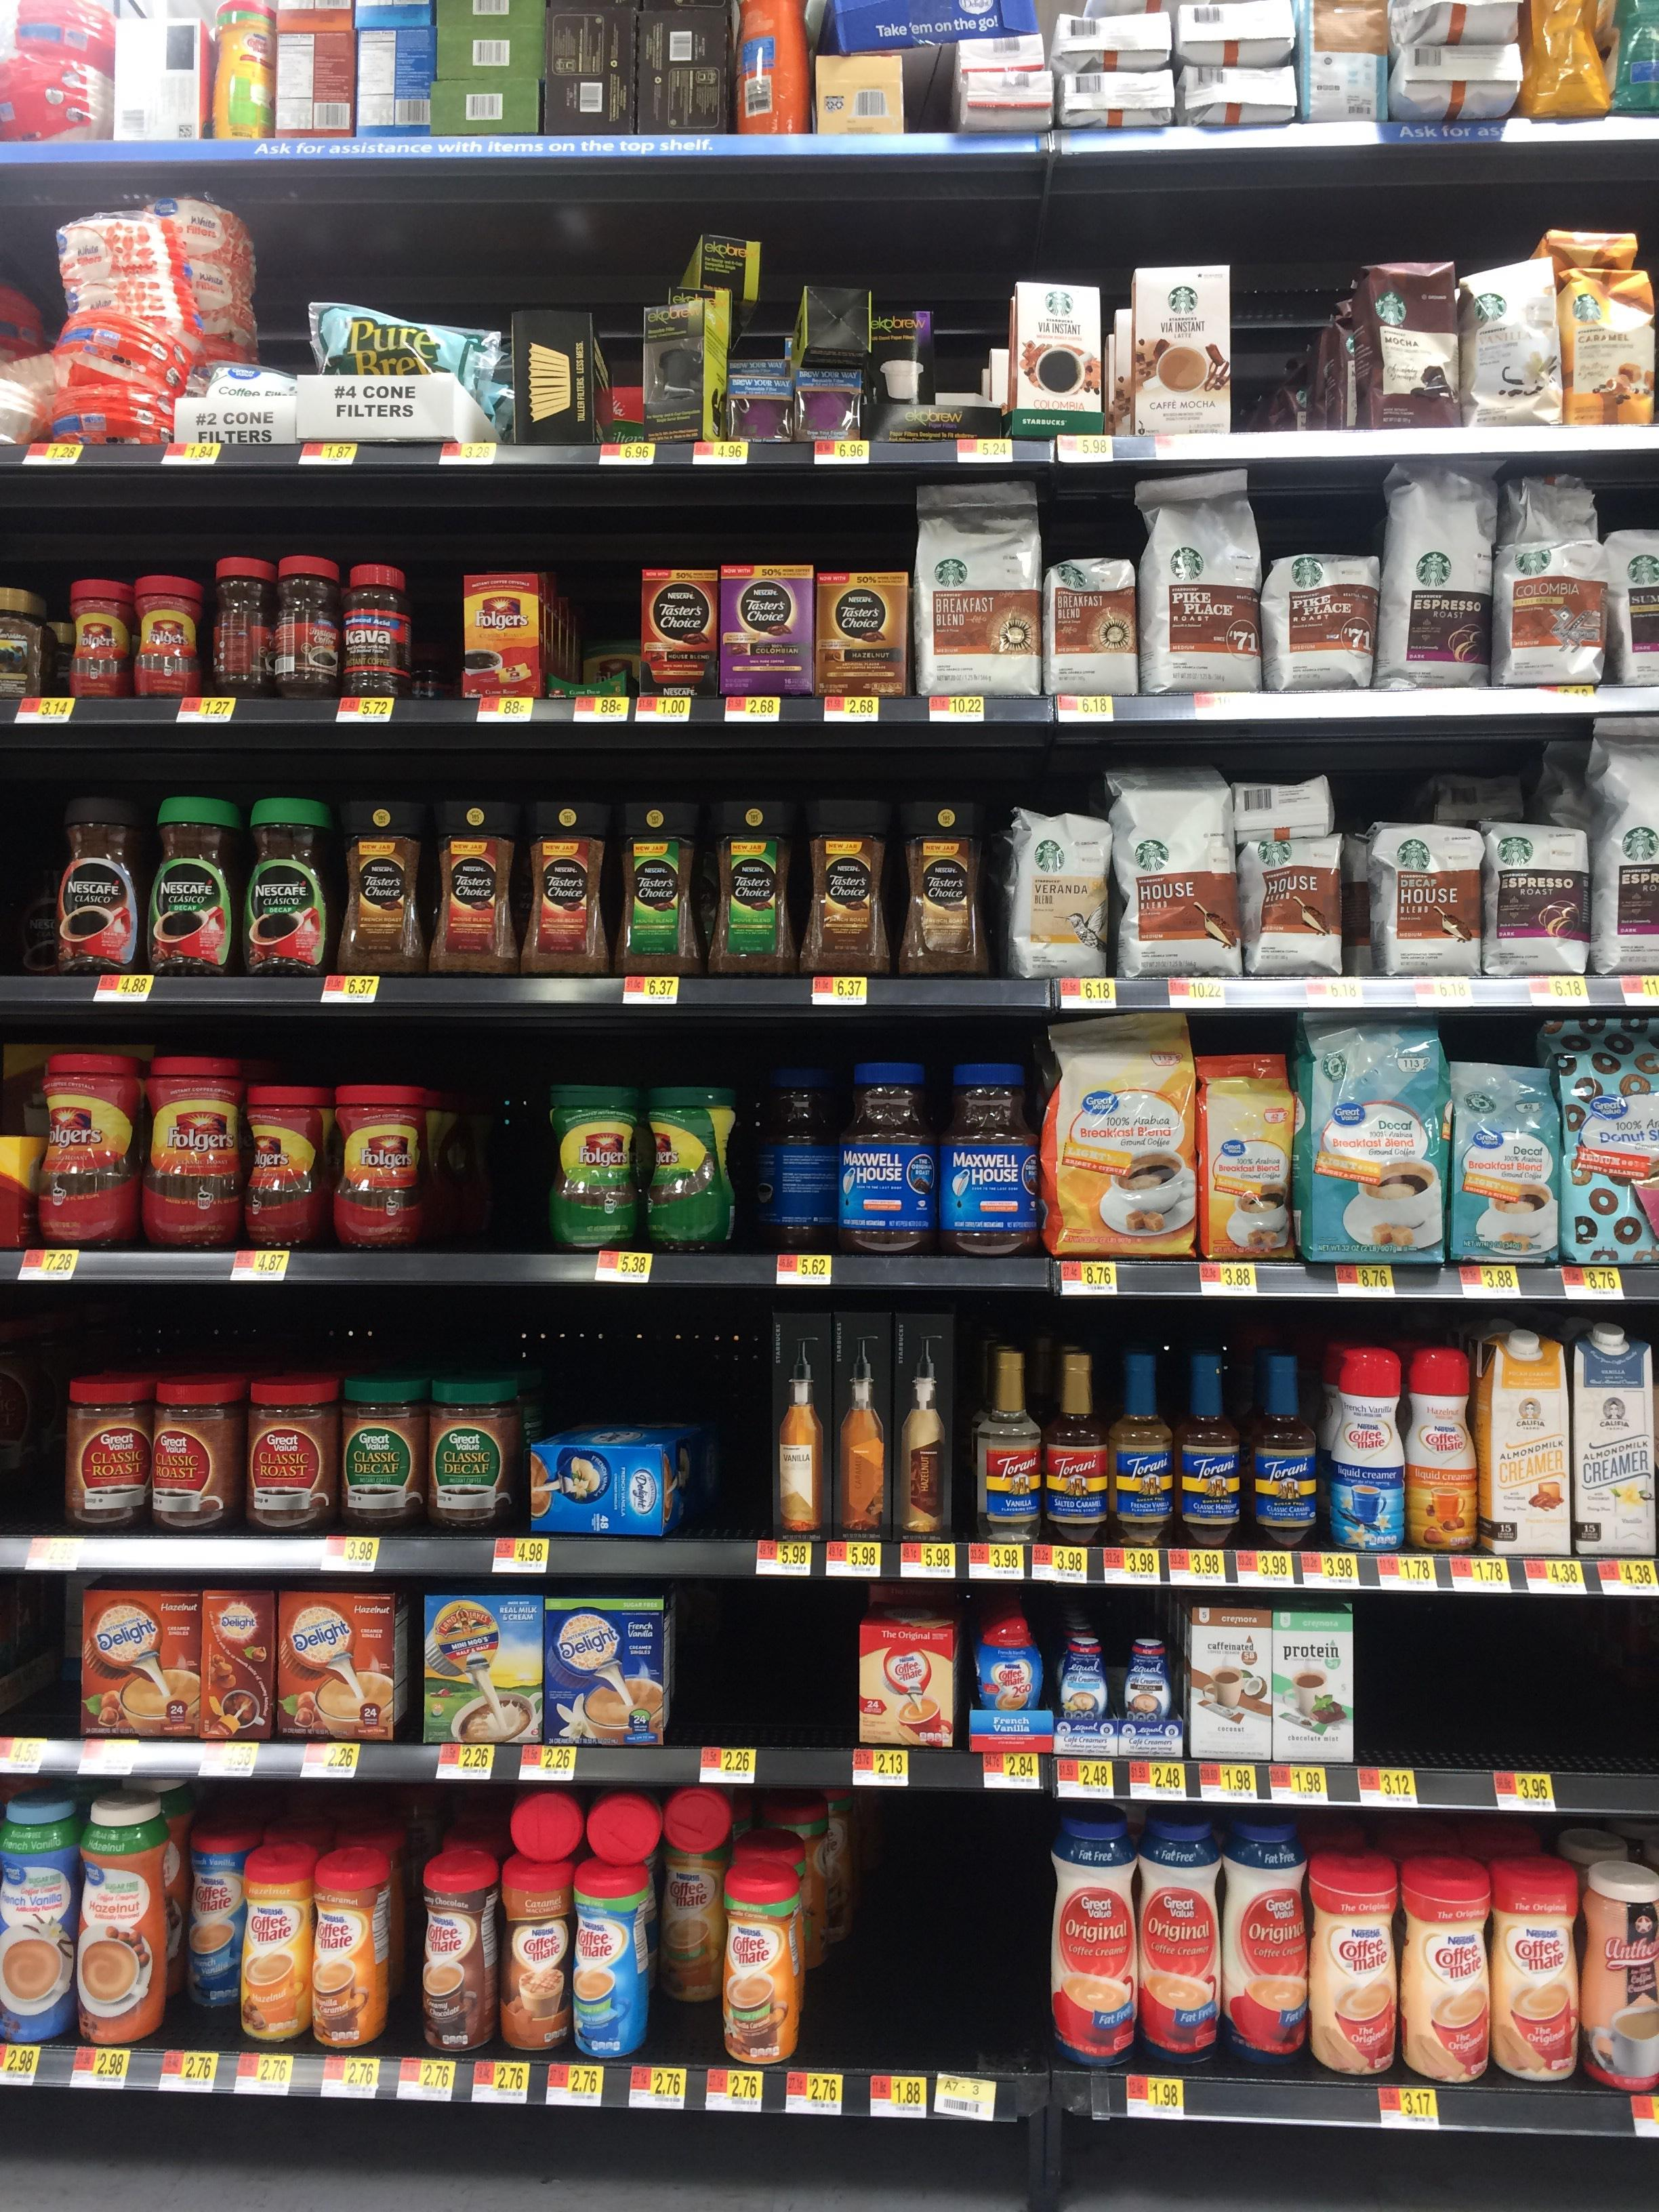empty: (951, 1829, 1053, 2062), (845, 1832, 946, 2066), (434, 1061, 542, 1261), (1234, 266, 1335, 430), (650, 1883, 728, 2073), (671, 1597, 763, 1750), (756, 1602, 849, 1756), (1452, 1613, 1544, 1766), (1361, 1615, 1453, 1766), (1553, 1615, 1643, 1766), (0, 1576, 73, 1733), (0, 1385, 73, 1541), (692, 1372, 765, 1529), (0, 801, 64, 972), (561, 566, 638, 691), (408, 571, 465, 695)
